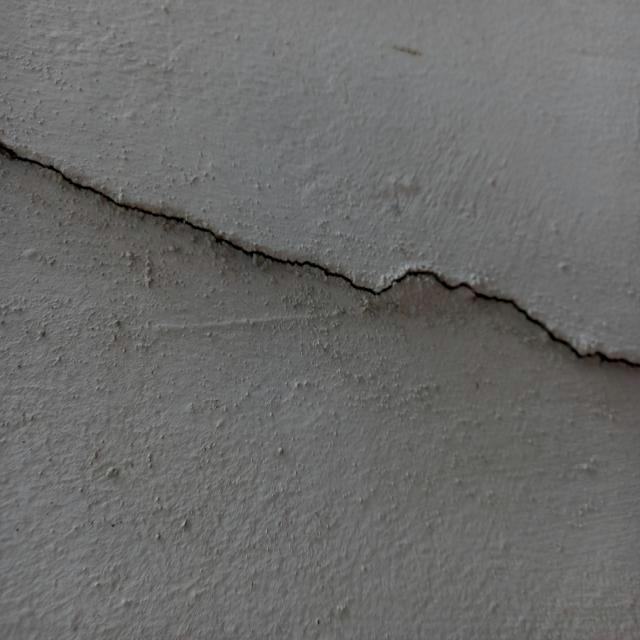SurfaceCrack: (1, 131, 640, 416)
